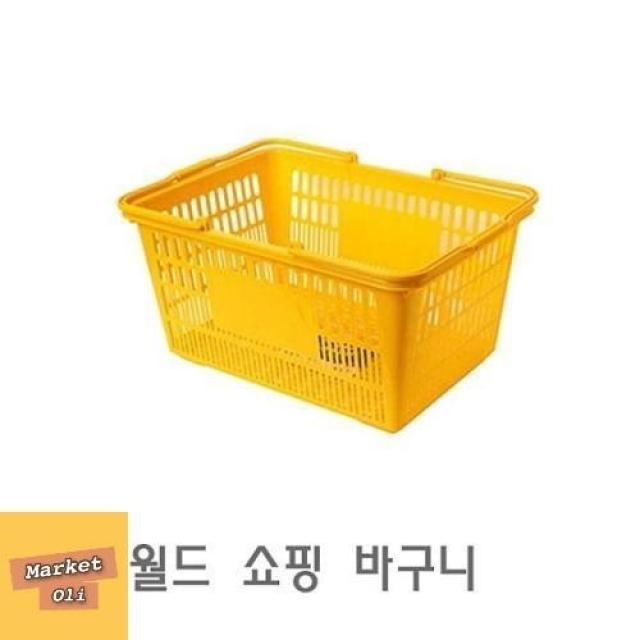basket: (86, 110, 541, 451)
